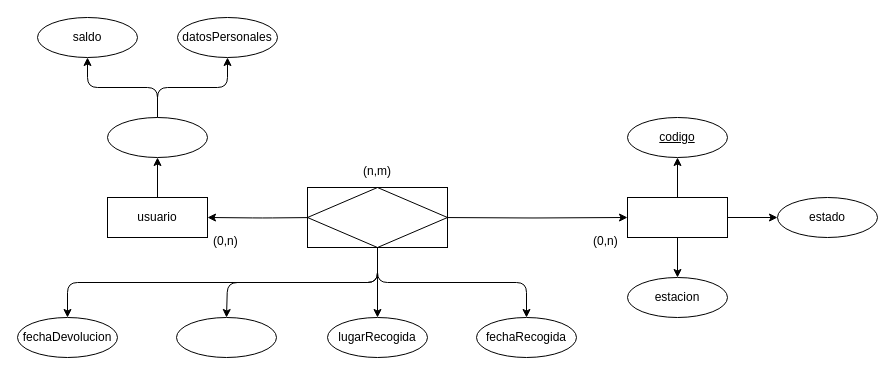
Image size: 895x375. Some labels were removed from this diagram. The centre of each missing label's shape, as x and y in pixels:
alquila: the point at 377,217
bicicleta: the point at 677,217
lugarDevolucion: the point at 226,337
tarjeta: the point at 157,137
